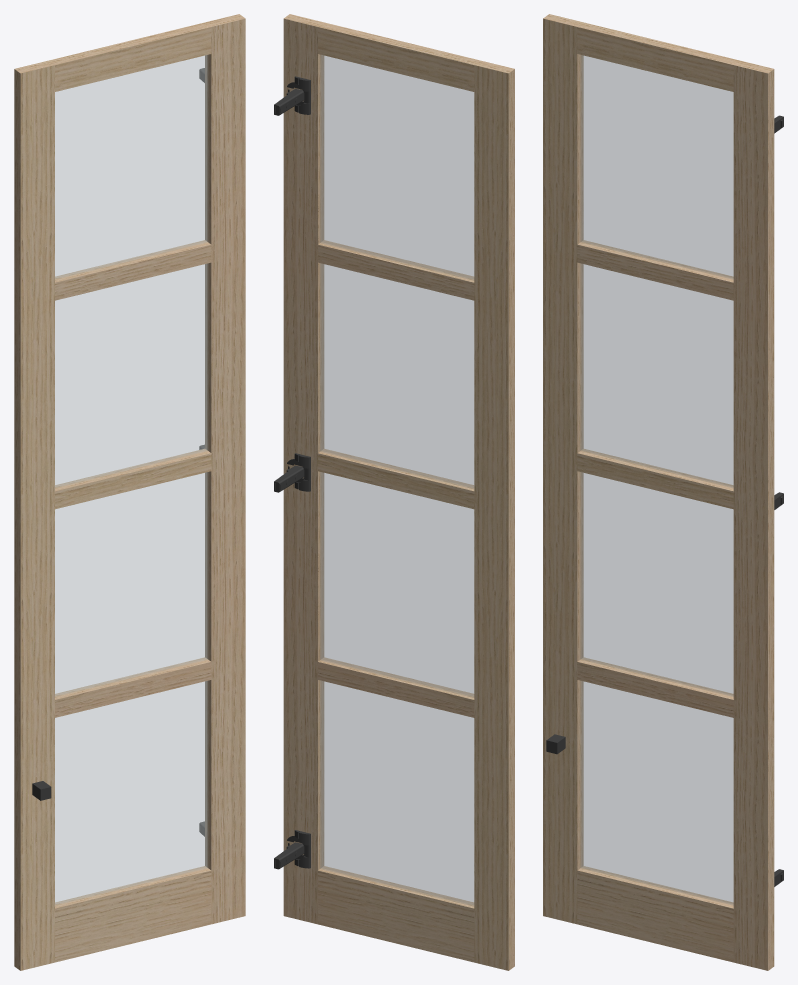
File: Vitrine_V1_dor_2.glb
The picture shows the model from 3 angles, left to right: view 1: azimuth 30°, elevation 25°; view 2: azimuth 150°, elevation 25°; view 3: azimuth 330°, elevation 25°; orthographic projection.
Parts seen in each view (by area): view 1: 2025-284 Vitrineskap; view 2: 2025-284 Vitrineskap, Vitrine V1 dør 2 stil høyre hengsel z1650 Blum 71B3590, Vitrine V1 dør 2 stil høyre hengsel z2278 Blum 71B3590, Vitrine V1 dør 2 stil høyre hengsel z1022 Blum 71B3590; view 3: 2025-284 Vitrineskap.
Boxes of the visible parts, bbox=[...] form: 2025-284 Vitrineskap: bbox=[14, 14, 245, 970]; 2025-284 Vitrineskap: bbox=[283, 14, 514, 970]; Vitrine V1 dør 2 stil høyre hengsel z1650 Blum 71B3590: bbox=[274, 453, 310, 492]; Vitrine V1 dør 2 stil høyre hengsel z2278 Blum 71B3590: bbox=[274, 76, 310, 115]; Vitrine V1 dør 2 stil høyre hengsel z1022 Blum 71B3590: bbox=[274, 830, 310, 869]; 2025-284 Vitrineskap: bbox=[543, 14, 774, 970].
Bounding box in the file's own units: 393 × 1497 × 112.
Materials: 3 (1 with a texture image).
